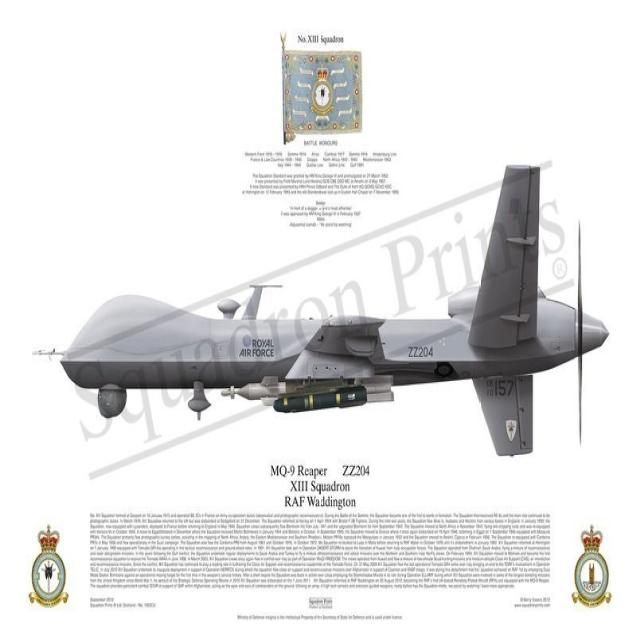MQ9: (42, 144, 640, 531)
